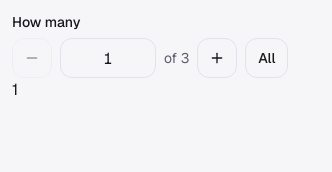
Test: components/transfers/amount-field › says 0, or one more than there are, is out of range
This screenshot has width=332, height=172.
Replace the text in the field named "How many" with "0" at (108, 58), box [60,38,156,78]
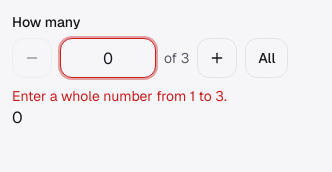
Result: the message reads "Enter a whole number from 1 to 3." at [12,87,227,105]
Replace the text in the field named "How many" with "4" at (108, 58), box [60,38,156,78]
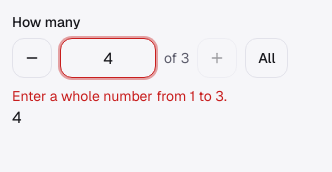
Result: the message reads "Enter a whole number from 1 to 3." at [12,87,227,105]
Replace the text in the field named "How many" with "3" at (108, 58), box [60,38,156,78]
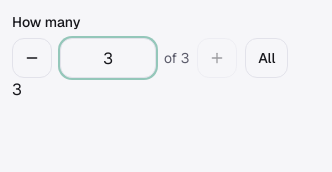
Result: the message "Enter a whole number from 1 to 3." is gone
